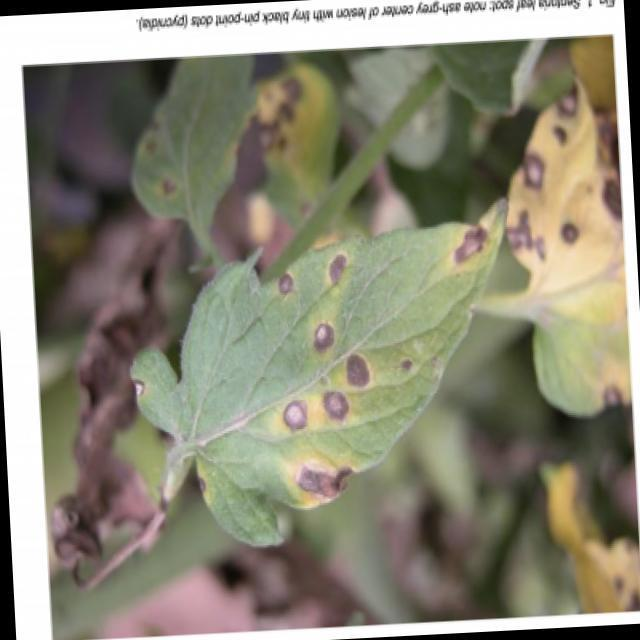Septoria: (236, 254, 392, 486), (509, 92, 618, 283)
